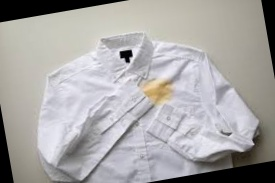coffee: (145, 79, 170, 101)
